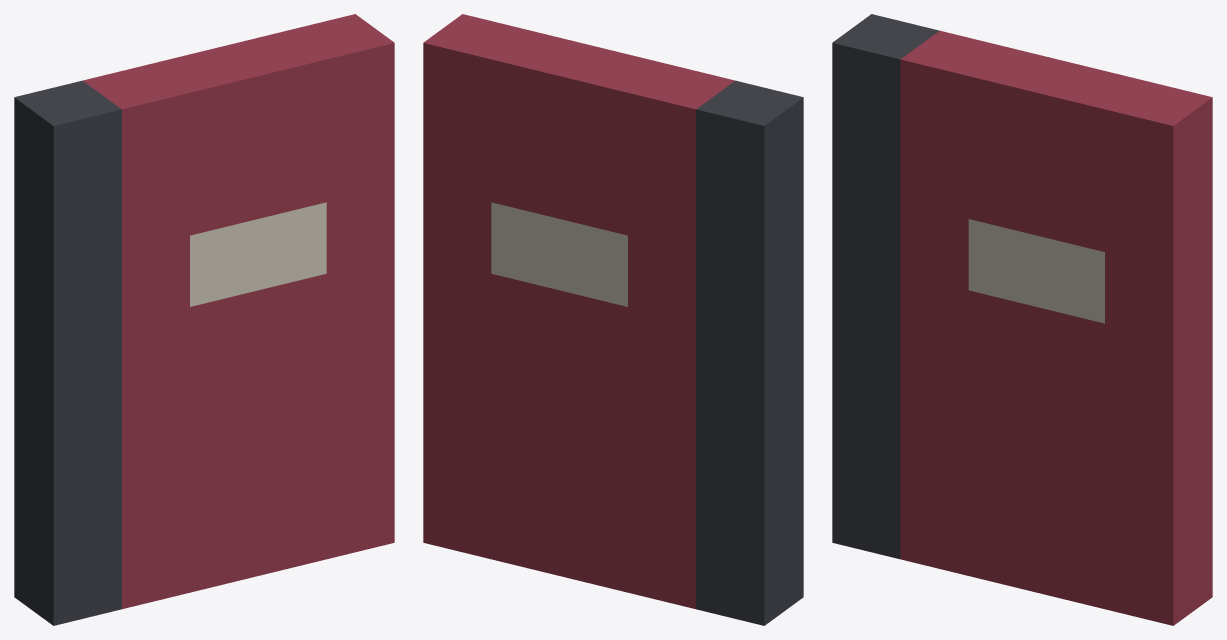
Rendered from carnet_bernard.glb.
3 renders of one model, left to right at view 1: azimuth 30°, elevation 25°; view 2: azimuth 150°, elevation 25°; view 3: azimuth 330°, elevation 25°, orthographic.
Parts seen in each view (by area): view 1: main; view 2: main; view 3: main.
Boxes of the visible parts, box(x1,y1,x2,y2) form: main: box(14, 14, 394, 625); main: box(423, 14, 803, 625); main: box(832, 14, 1212, 625).
Bounding box in the file's own units: 0.3125 × 0.4375 × 0.0625.
